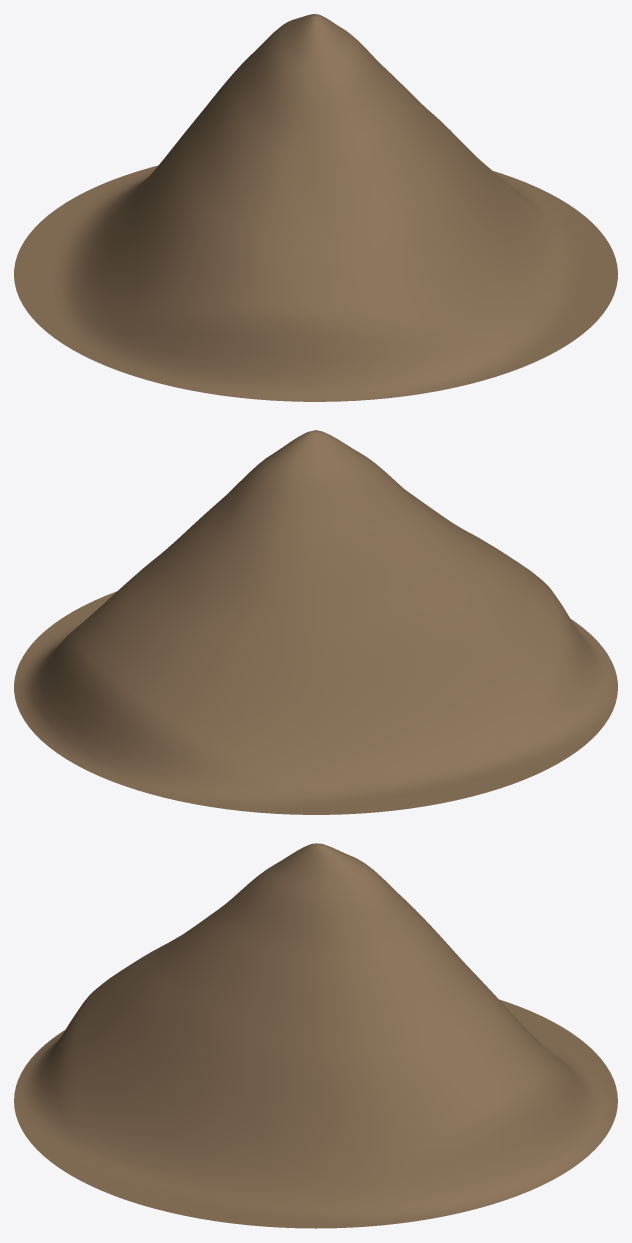
Rendered from hill-v4.4.glb.
3 views of the same model, one above another, from view 1: azimuth 30°, elevation 25°; view 2: azimuth 150°, elevation 25°; view 3: azimuth 270°, elevation 25° (orthographic).
Visible parts, largest first — view 1: hill_v4_4; view 2: hill_v4_4; view 3: hill_v4_4.
Boxes of the visible parts, x1=… form: hill_v4_4: x1=14, y1=14, x2=617, y2=401; hill_v4_4: x1=14, y1=430, x2=617, y2=814; hill_v4_4: x1=14, y1=843, x2=617, y2=1228.
Size of the model in its own units: 2 by 0.94 by 2.
